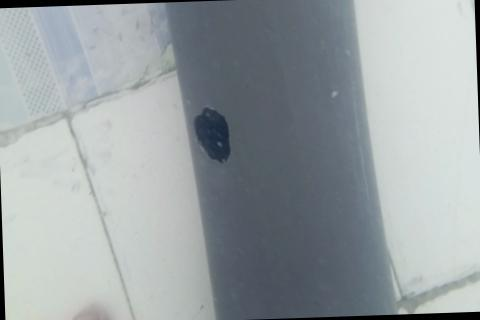kebocoran: (191, 102, 233, 165)
